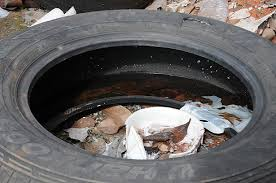tire: (1, 9, 275, 183)
